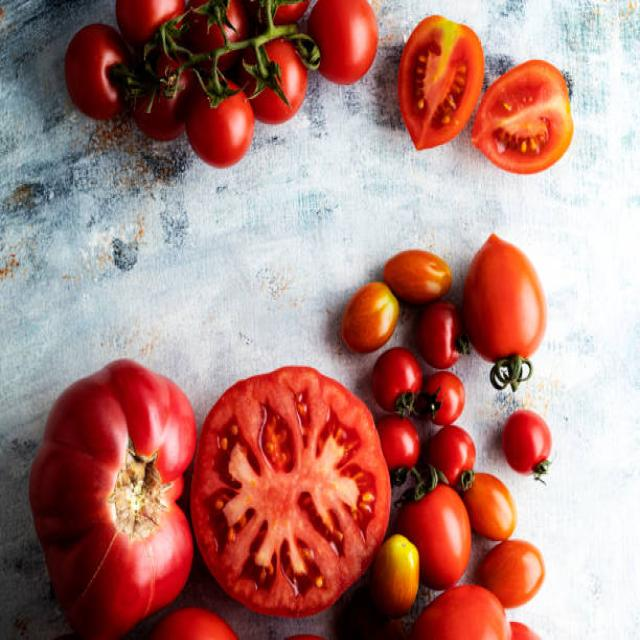Tomato: (182, 359, 396, 627)
